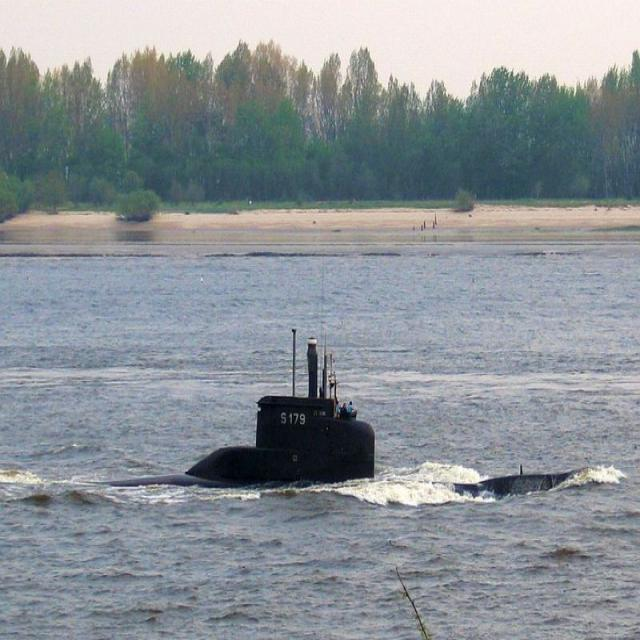submarine: (92, 379, 377, 495)
